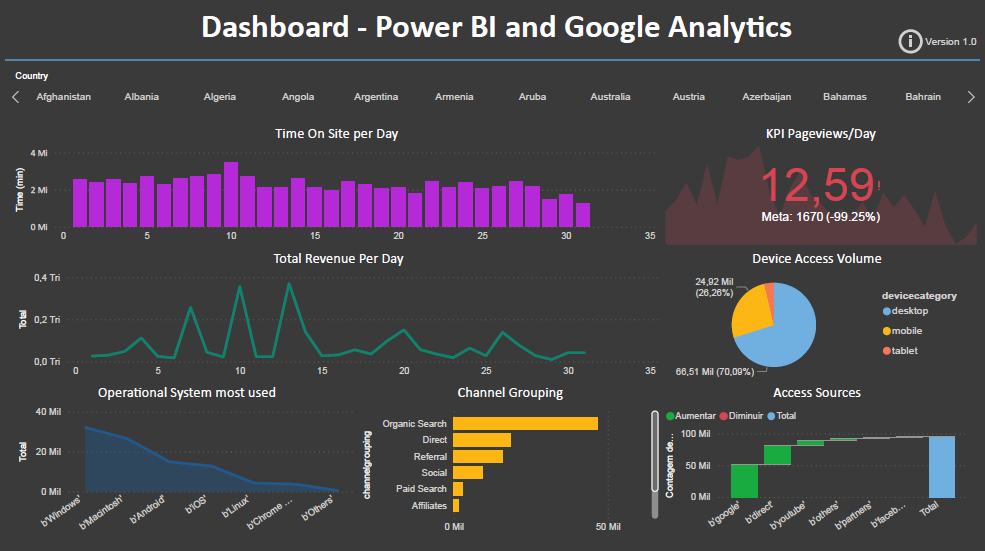

The page's visual inventory and layout, read from the dashboard file:
{"tool":"powerbi","page":{"name":"Página 1","canvas":[1280,720],"ordinal":0},"visuals":[{"type":"textbox","box":[9.6,5.7,1270.4,63.2],"z":0},{"type":"shape","box":[9.9,63.7,1260.4,35.4],"z":1000},{"type":"clusteredBarChart","title":"Channel Grouping","fields":{"Category":["dataset.channelgrouping"],"Y":["CountNonNull(dataset.channelgrouping)"]},"box":[466.8,499.3,391.8,202.3],"z":1001},{"type":"columnChart","title":"Time On Site per Day","fields":{"Y":["Sum(dataset.timeonsite_st)"],"Category":["dataset.date.Variation.Hierarquia de datas.Dia"]},"box":[18.4,164.1,840.2,161.3],"z":1002},{"type":"waterfallChart","title":"Access Sources","fields":{"Category":["dataset.source_today"],"Y":["CountNonNull(dataset.source_today)"]},"box":[858.6,499.3,401.7,202.3],"z":1003},{"type":"areaChart","title":"Operational System most used","fields":{"Category":["dataset.operatingsystem"],"Y":["CountNonNull(dataset.operatingsystem)"]},"box":[22.6,499.3,444.2,202.3],"z":1004},{"type":"pieChart","title":"Device Access Volume","fields":{"Category":["dataset.devicecategory"],"Y":["CountNonNull(dataset.devicecategory)"]},"box":[858.6,325.3,401.7,174],"z":1005},{"type":"lineChart","title":"Total Revenue Per Day","fields":{"Category":["dataset.date.Variation.Hierarquia de datas.Dia"],"Y":["Sum(dataset.transactionrevenue_st)"]},"box":[22.6,325.3,836,174],"z":1006},{"type":"actionButton","box":[1159.9,36.8,110.3,41],"z":1007},{"type":"slicer","fields":{"Values":["dataset.country"]},"box":[9.9,90.5,1260.4,59.4],"z":1008},{"type":"kpi","title":"KPI Pageviews/Day","fields":{"Indicator":["Avg(dataset.pageviews_st)"],"Goal":["Max(dataset.pageviews_st)"],"TrendLine":["dataset.date.Variation.Hierarquia de datas.Dia"]},"box":[858.6,164.1,411.6,161.3],"z":1009}]}

Visuals, with their boxes in screenshot pixels (x1, y1, x2, y2), scaled from the page's 1280x720 canvas onto the 985x551 screenshot:
textbox: {"x1": 7, "y1": 4, "x2": 984, "y2": 53}
shape: {"x1": 8, "y1": 49, "x2": 978, "y2": 76}
"Channel Grouping" clusteredBarChart: {"x1": 359, "y1": 382, "x2": 661, "y2": 537}
"Time On Site per Day" columnChart: {"x1": 14, "y1": 126, "x2": 661, "y2": 249}
"Access Sources" waterfallChart: {"x1": 661, "y1": 382, "x2": 970, "y2": 537}
"Operational System most used" areaChart: {"x1": 17, "y1": 382, "x2": 359, "y2": 537}
"Device Access Volume" pieChart: {"x1": 661, "y1": 249, "x2": 970, "y2": 382}
"Total Revenue Per Day" lineChart: {"x1": 17, "y1": 249, "x2": 661, "y2": 382}
actionButton: {"x1": 893, "y1": 28, "x2": 977, "y2": 60}
slicer - dataset.country: {"x1": 8, "y1": 69, "x2": 978, "y2": 115}
"KPI Pageviews/Day" kpi: {"x1": 661, "y1": 126, "x2": 977, "y2": 249}
